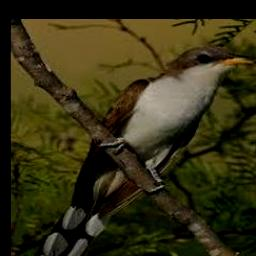Cuckoo: (29, 46, 256, 256)
